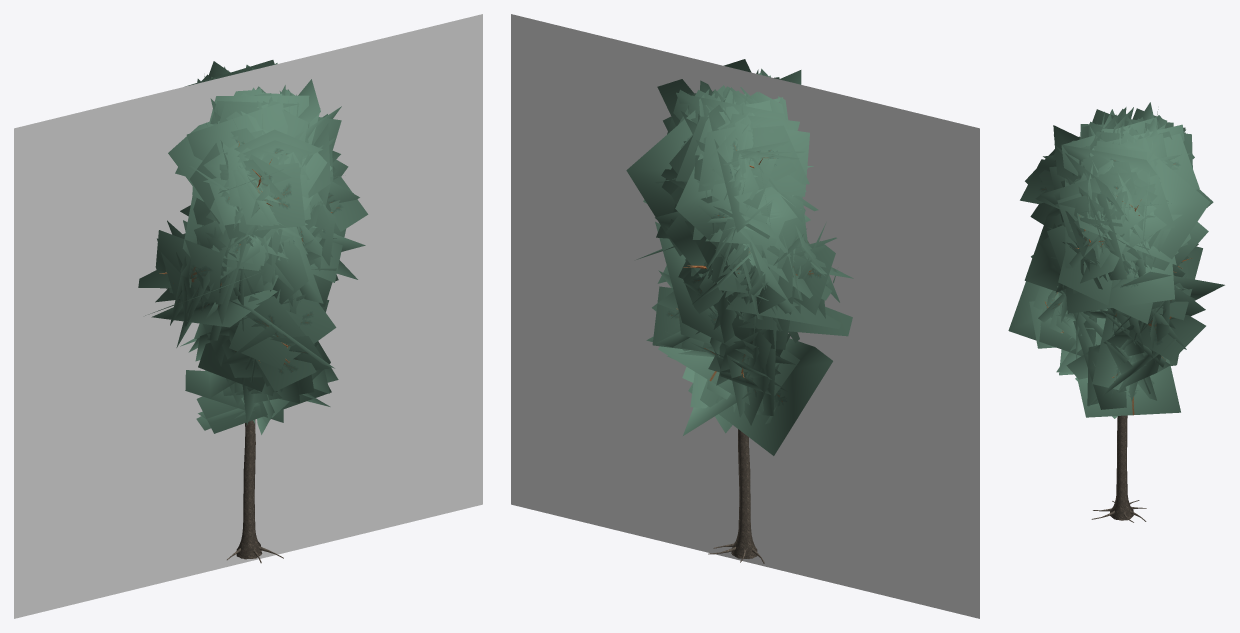
Rendered from pin_adulte_b.fbx.
The picture shows the model from 3 angles, left to right: view 1: azimuth 30°, elevation 25°; view 2: azimuth 150°, elevation 25°; view 3: azimuth 270°, elevation 25°; orthographic projection. The views are drawn at different scales.
Visible parts, largest first — view 1: pin_adulte_b_LOD3, pin_adulte_b_LOD1, pin_adulte_b_LOD2; view 2: pin_adulte_b_LOD3, pin_adulte_b_LOD2, pin_adulte_b_LOD1; view 3: pin_adulte_b_LOD2, pin_adulte_b_LOD1.
Boxes of the visible parts, x1=… form: pin_adulte_b_LOD3: x1=14, y1=14, x2=482, y2=618; pin_adulte_b_LOD1: x1=138, y1=66, x2=368, y2=562; pin_adulte_b_LOD2: x1=145, y1=60, x2=365, y2=562; pin_adulte_b_LOD3: x1=511, y1=14, x2=979, y2=618; pin_adulte_b_LOD2: x1=626, y1=59, x2=852, y2=563; pin_adulte_b_LOD1: x1=646, y1=70, x2=853, y2=563; pin_adulte_b_LOD2: x1=1008, y1=102, x2=1224, y2=522; pin_adulte_b_LOD1: x1=1020, y1=107, x2=1205, y2=522.
Size of what is drawn, in the model's own units: 26.96 by 26.96 by 12.87.
